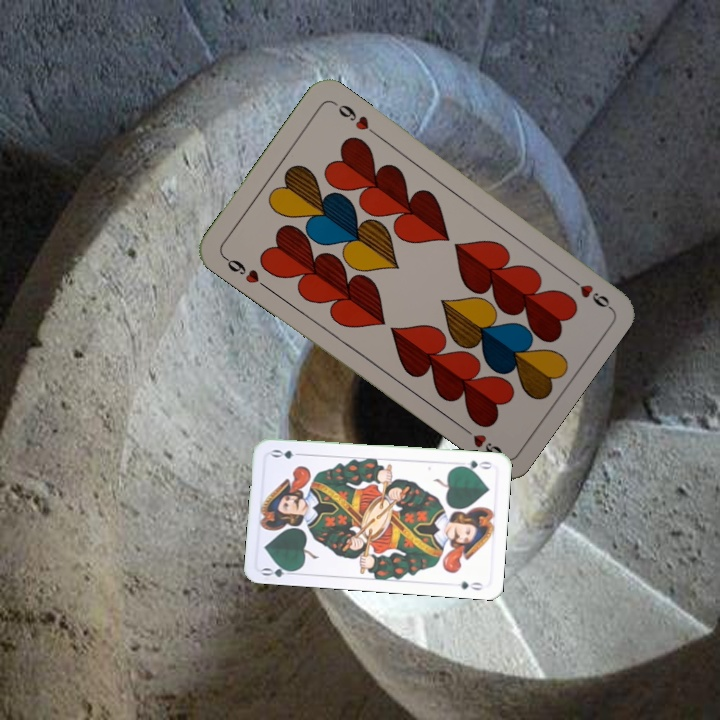GO: (258, 560, 299, 580), (455, 456, 494, 473)
H9: (219, 251, 270, 292), (562, 270, 613, 311)
